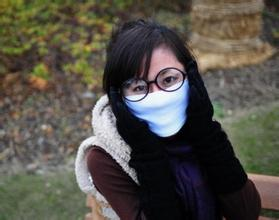face_mask: (126, 49, 189, 131)
